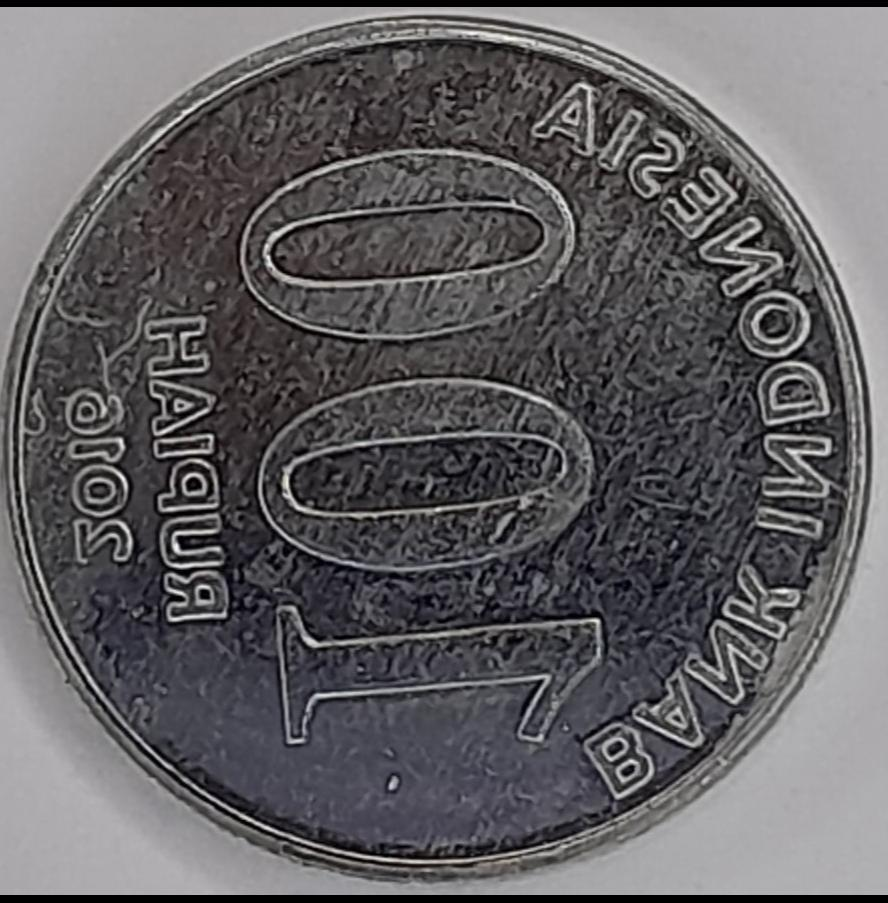coin_100_e2016: (0, 10, 877, 882)
